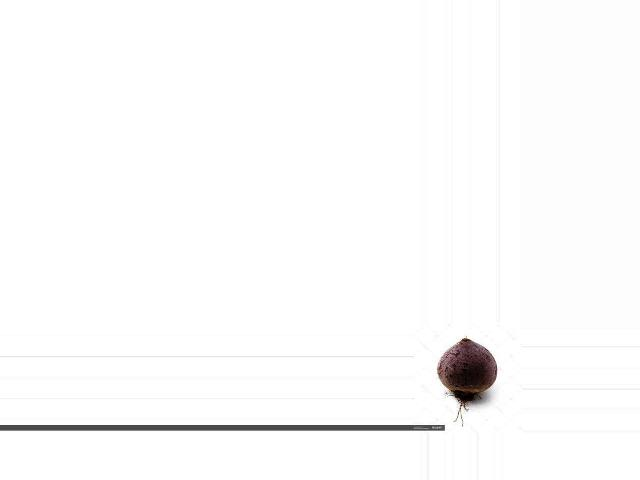beet: (436, 337, 497, 427)
